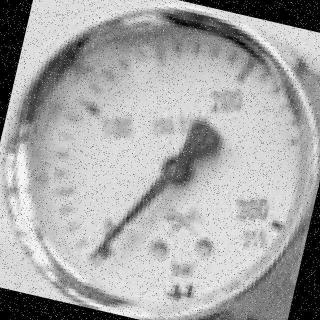gauge: (0, 8, 320, 320), (68, 207, 142, 280), (245, 193, 308, 264), (158, 151, 196, 189), (84, 243, 105, 268)
